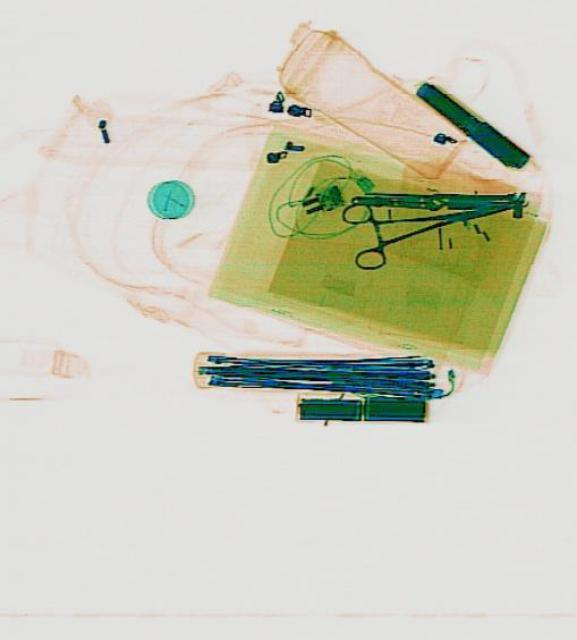Scissors: (340, 169, 527, 271)
